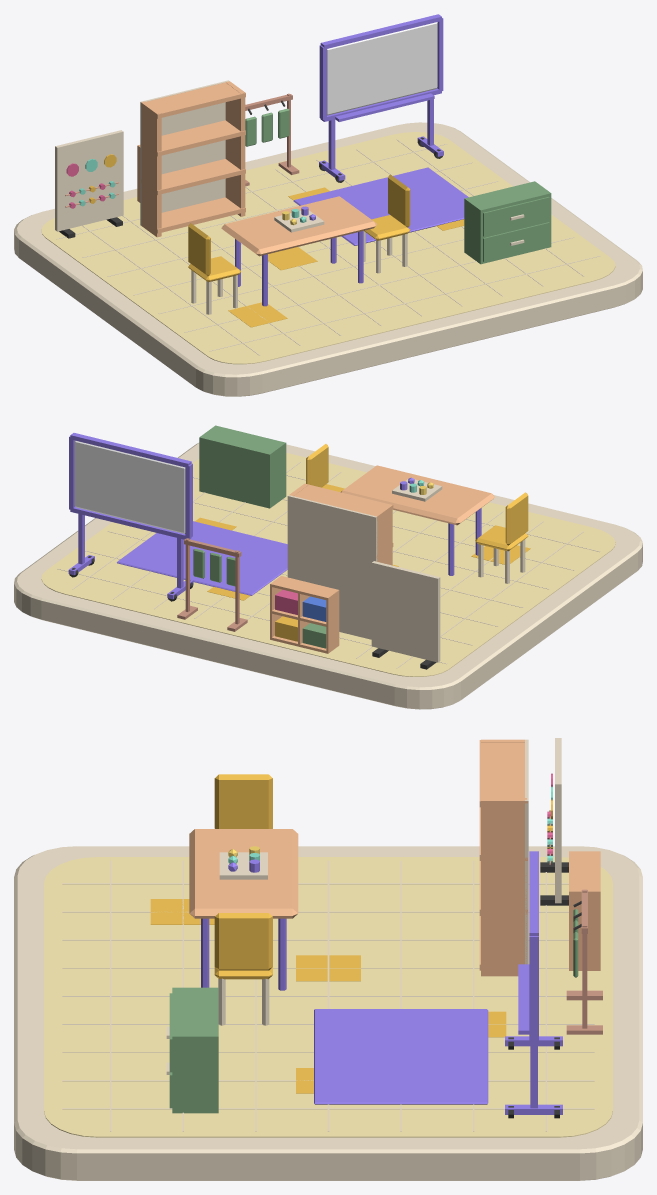
3 views of the same model, one above another, from view 1: azimuth 30°, elevation 25°; view 2: azimuth 150°, elevation 25°; view 3: azimuth 270°, elevation 25° (orthographic). The views are drawn at different scales.
Visible parts, largest first — view 1: COM-02 Floor Surface, COM-01 Rounded Base Direct, Writing surface, Cabinet, Panel, Rug, Rounded table top, Back, Side, Side.001, Shelf.003, Shelf.002 (+12 smaller); view 2: COM-02 Floor Surface, COM-01 Rounded Base Direct, Back, Writing surface, Panel, Cabinet, Rug, Rounded table top, Shelf.003, Frame rail.001, Backrest, Backrest.001 (+13 smaller); view 3: COM-02 Floor Surface, COM-01 Rounded Base Direct, Rug, Rounded table top, Side.001, Cabinet, Backrest.001, Backrest, Shelf.003, Cubbies divider.002, Geometric color tile.001, Cubbies shelf.002 (+12 smaller).
Part boxes in pixels (left/top/right/bottom): COM-02 Floor Surface: left=41, top=132, right=615, bottom=364; COM-01 Rounded Base Direct: left=14, top=122, right=642, bottom=396; Writing surface: left=327, top=22, right=437, bottom=115; Cabinet: left=464, top=181, right=551, bottom=264; Panel: left=55, top=130, right=123, bottom=231; Rug: left=293, top=167, right=468, bottom=245; Rounded table top: left=221, top=196, right=376, bottom=256; Back: left=140, top=80, right=229, bottom=225; Side: left=141, top=101, right=161, bottom=237; Side.001: left=225, top=81, right=245, bottom=216; Shelf.003: left=141, top=82, right=245, bottom=118; Shelf.002: left=141, top=120, right=245, bottom=156; COM-02 Floor Surface: left=41, top=453, right=615, bottom=676; COM-01 Rounded Base Direct: left=14, top=443, right=642, bottom=709; Back: left=287, top=495, right=377, bottom=639; Writing surface: left=74, top=440, right=185, bottom=533; Panel: left=371, top=561, right=440, bottom=662; Cabinet: left=199, top=425, right=286, bottom=508; Rug: left=117, top=521, right=287, bottom=595; Rounded table top: left=340, top=465, right=494, bottom=525; Shelf.003: left=294, top=483, right=393, bottom=520; Frame rail.001: left=70, top=433, right=191, bottom=467; Backrest: left=505, top=492, right=528, bottom=545; Backrest.001: left=306, top=444, right=328, bottom=487; COM-02 Floor Surface: left=44, top=857, right=612, bottom=1137; COM-01 Rounded Base Direct: left=14, top=846, right=642, bottom=1180; Rug: left=314, top=1009, right=488, bottom=1104; Rounded table top: left=189, top=829, right=298, bottom=918; Side.001: left=481, top=798, right=526, bottom=976; Cabinet: left=166, top=987, right=218, bottom=1113; Backrest.001: left=214, top=913, right=272, bottom=970; Backrest: left=214, top=774, right=272, bottom=828; Shelf.003: left=479, top=740, right=527, bottom=807; Cubbies divider.002: left=569, top=892, right=600, bottom=970; Geometric color tile.001: left=296, top=955, right=360, bottom=981; Cubbies shelf.002: left=569, top=851, right=600, bottom=891.
Bounding box in the file's own units: 6 × 2.04 × 5.2.
Materials: 1 (1 with a texture image).
